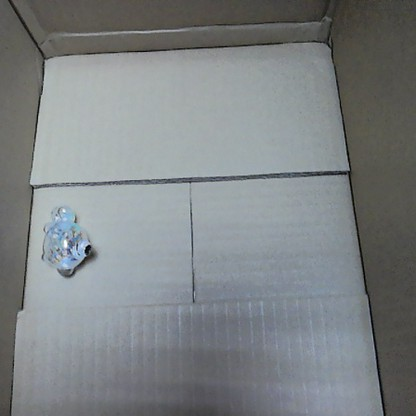whitefish: (36, 203, 95, 279)
